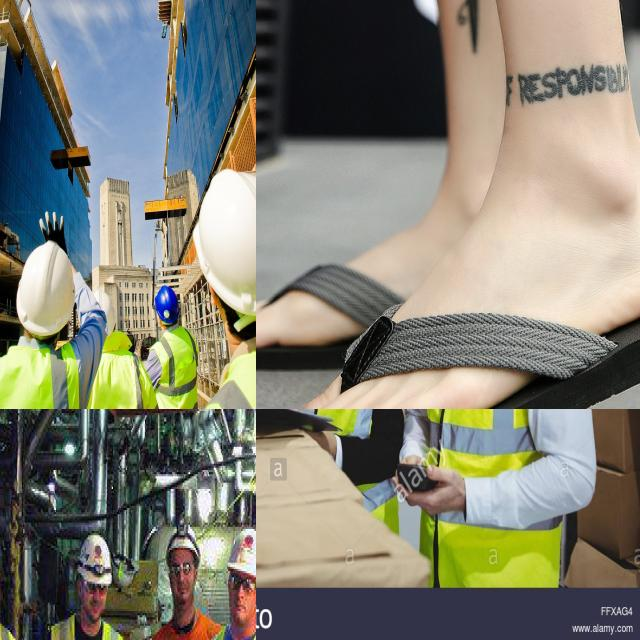Sandals: (256, 167, 640, 409)
face_nomask: (170, 552, 202, 605), (75, 576, 107, 629), (230, 573, 256, 627)
glasses: (228, 570, 256, 598), (170, 560, 196, 582)
hand_noglove: (390, 463, 485, 528)
head_helmet: (192, 168, 256, 317), (15, 239, 76, 337), (73, 512, 115, 584), (218, 522, 256, 585), (165, 518, 204, 562), (94, 289, 116, 337), (154, 284, 180, 324)
person: (392, 409, 600, 584), (256, 409, 405, 507), (194, 174, 256, 409), (0, 238, 81, 409), (43, 480, 129, 640), (142, 499, 226, 640), (200, 474, 256, 640), (83, 292, 155, 409), (148, 279, 200, 409)
vest: (399, 409, 574, 573), (261, 409, 406, 509), (0, 341, 81, 409), (82, 339, 159, 409), (151, 325, 201, 409)
